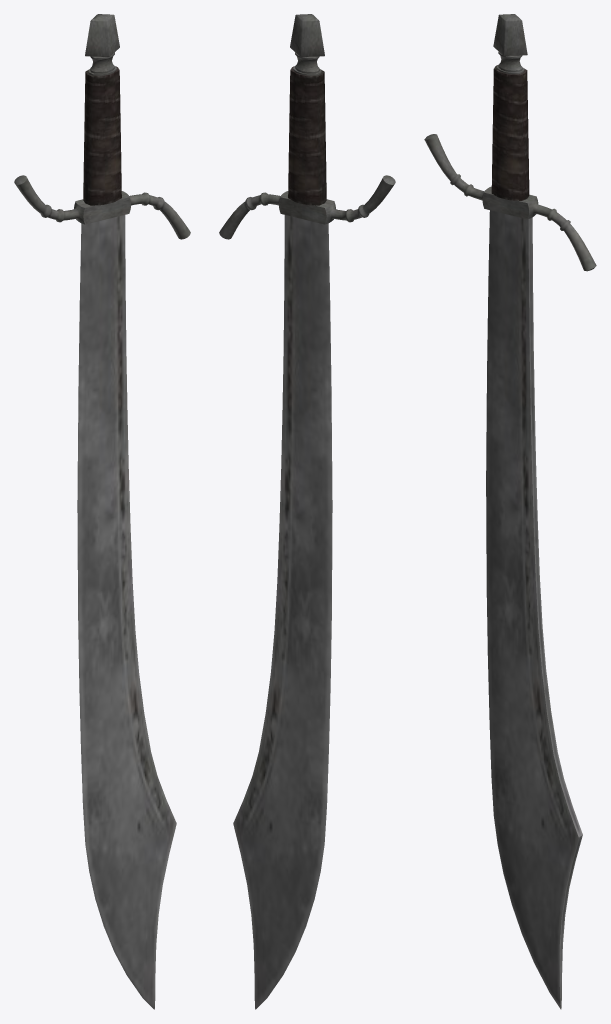
Rendered from weapon-wp_a_0401.glb.
3 renders of one model, left to right at view 1: azimuth 30°, elevation 25°; view 2: azimuth 150°, elevation 25°; view 3: azimuth 330°, elevation 25°, orthographic. The views are drawn at different scales.
Visible parts, largest first — view 1: wp_a_0401_mesh; view 2: wp_a_0401_mesh; view 3: wp_a_0401_mesh.
Part boxes in pixels (<box>): wp_a_0401_mesh: <box>14,14,190,1009</box>; wp_a_0401_mesh: <box>219,14,395,1009</box>; wp_a_0401_mesh: <box>424,14,596,1009</box>.
Bounding box in the file's own units: 0.188 × 1.04 × 0.0254.
1 material, 1 textured.
